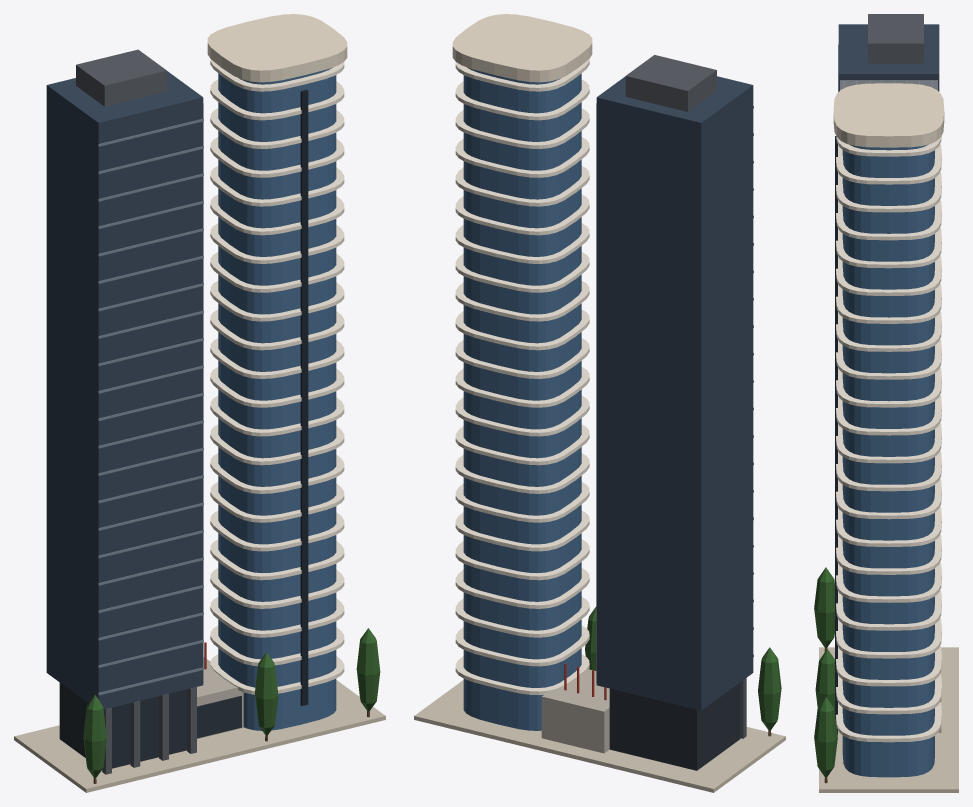
File: wtc.glb
3 views of the same model, side by side, from view 1: azimuth 30°, elevation 25°; view 2: azimuth 150°, elevation 25°; view 3: azimuth 270°, elevation 25° (orthographic). The views are drawn at different scales.
Visible parts, largest first — view 1: wtc_Towers; view 2: wtc_Towers; view 3: wtc_Towers.
Part boxes in pixels (left/top/right/bottom): wtc_Towers: left=14, top=14, right=385, bottom=792; wtc_Towers: left=414, top=14, right=785, bottom=792; wtc_Towers: left=814, top=14, right=958, bottom=792.
Bounding box in the file's own units: 24 × 51.9 × 10.35.
